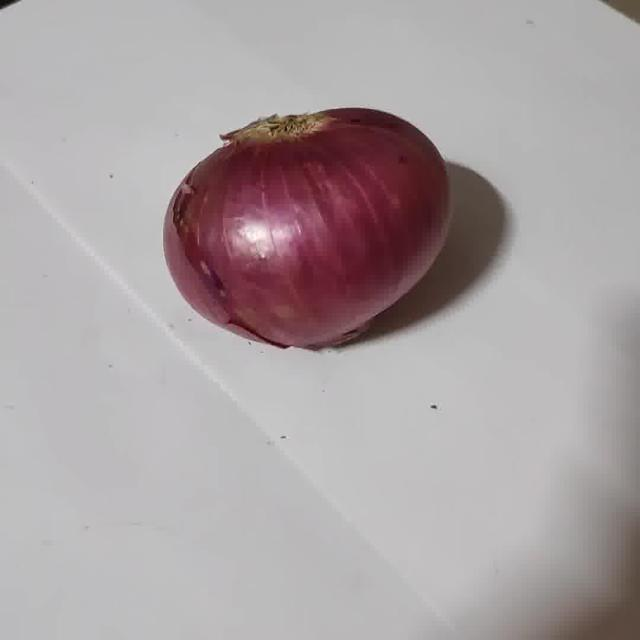Onion: (164, 108, 449, 348)
